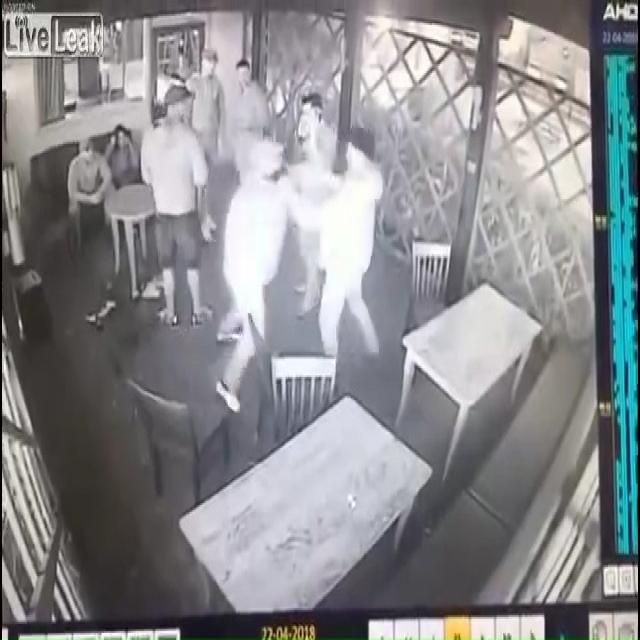fight: (214, 132, 395, 414)
